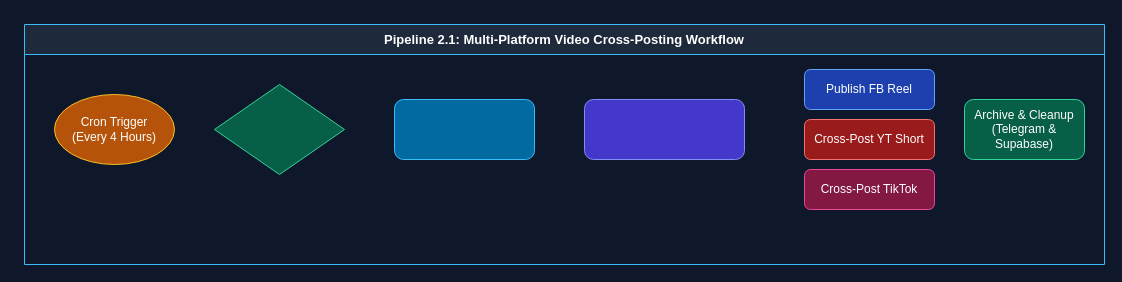
This 1122x282 diagram has some shape labels left out. Each missing label, with the centre of its shape:
"Check Supabase reels_queue" belongs at [279,129].
"Download Buffer (Telegram Bot API)" belongs at [464,129].
"Generate SEO Metadata (Gemini 3.6 Flash Pool)" belongs at [664,129].
